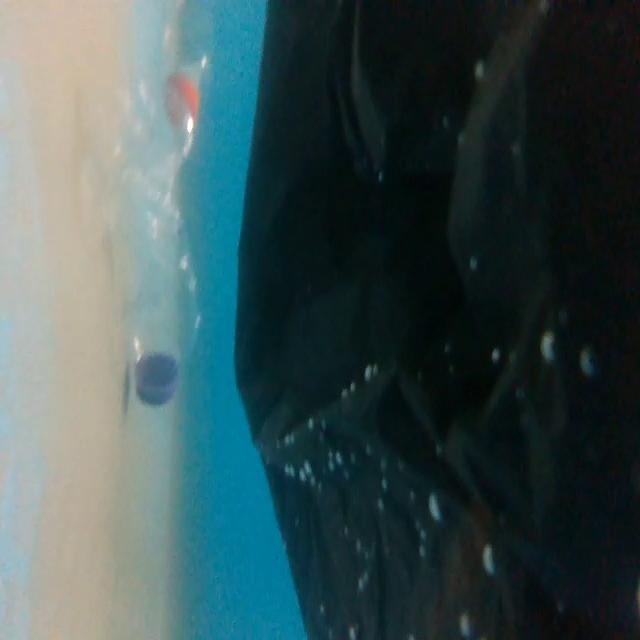plastic bags: (250, 5, 640, 640)
plastic bottle: (82, 67, 219, 409)
